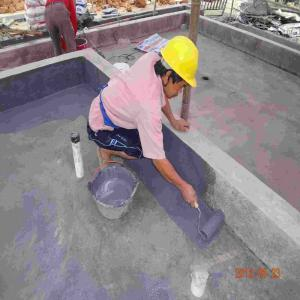yellow: (159, 36, 200, 104)
